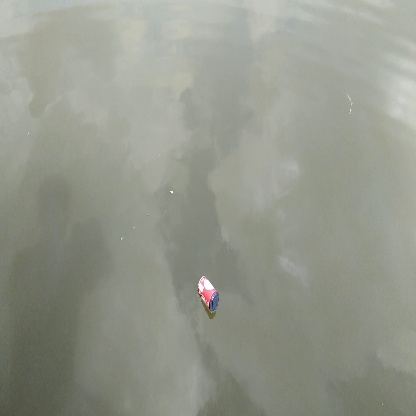bottle: (194, 271, 223, 313)
